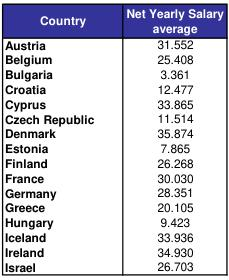table: (3, 3, 222, 274)
table column: (109, 3, 222, 274), (3, 3, 109, 274)
table column header: (3, 3, 222, 35)
table row: (3, 3, 222, 35), (3, 35, 222, 51), (3, 258, 222, 274), (3, 51, 222, 66), (3, 80, 222, 95), (3, 95, 222, 110), (3, 110, 222, 125), (3, 125, 222, 140), (3, 154, 222, 169), (3, 169, 222, 184), (3, 184, 222, 199), (3, 199, 222, 214), (3, 228, 222, 243), (3, 243, 222, 258), (3, 66, 222, 80), (3, 140, 222, 154), (3, 214, 222, 228)
